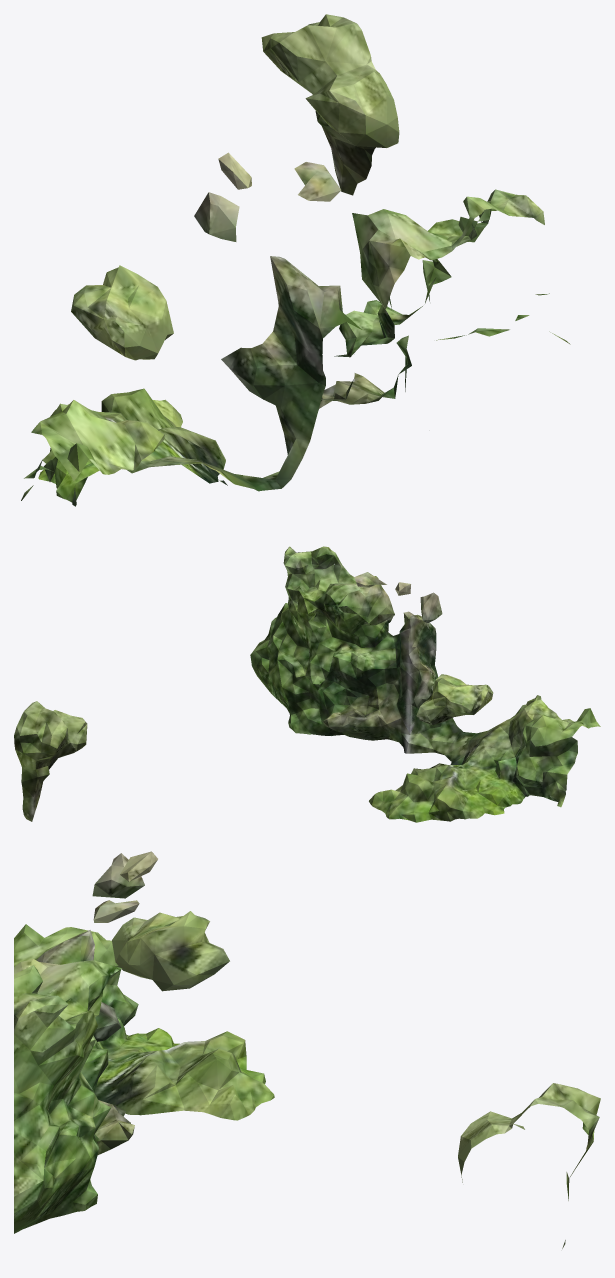
The picture shows the model from 3 angles, top to bottom: view 1: azimuth 30°, elevation 25°; view 2: azimuth 150°, elevation 25°; view 3: azimuth 270°, elevation 25°; orthographic projection. The views are drawn at different scales.
Bounding box in the file's own units: 26.11 × 12.91 × 25.51.
Materials: 2 (2 with a texture image).
